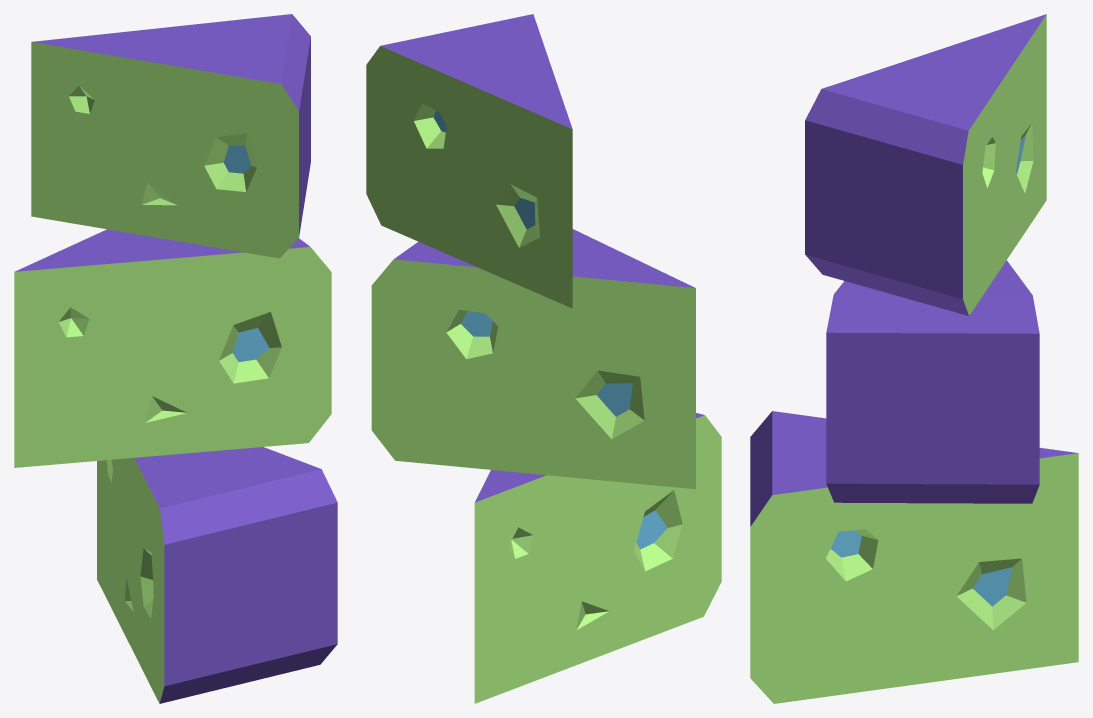
File: 049_Cheese.fbx
3 views of the same model, side by side, from view 1: azimuth 30°, elevation 25°; view 2: azimuth 150°, elevation 25°; view 3: azimuth 270°, elevation 25° (orthographic). The views are drawn at different scales.
Visible parts, largest first — view 1: Cheese; view 2: Cheese; view 3: Cheese.
Part boxes in pixels (x1,y1,x2,y2): Cheese: [14, 14, 337, 703]; Cheese: [366, 14, 721, 703]; Cheese: [750, 14, 1078, 703].
Size of the model in its own units: 60.3 by 106 by 52.06.
